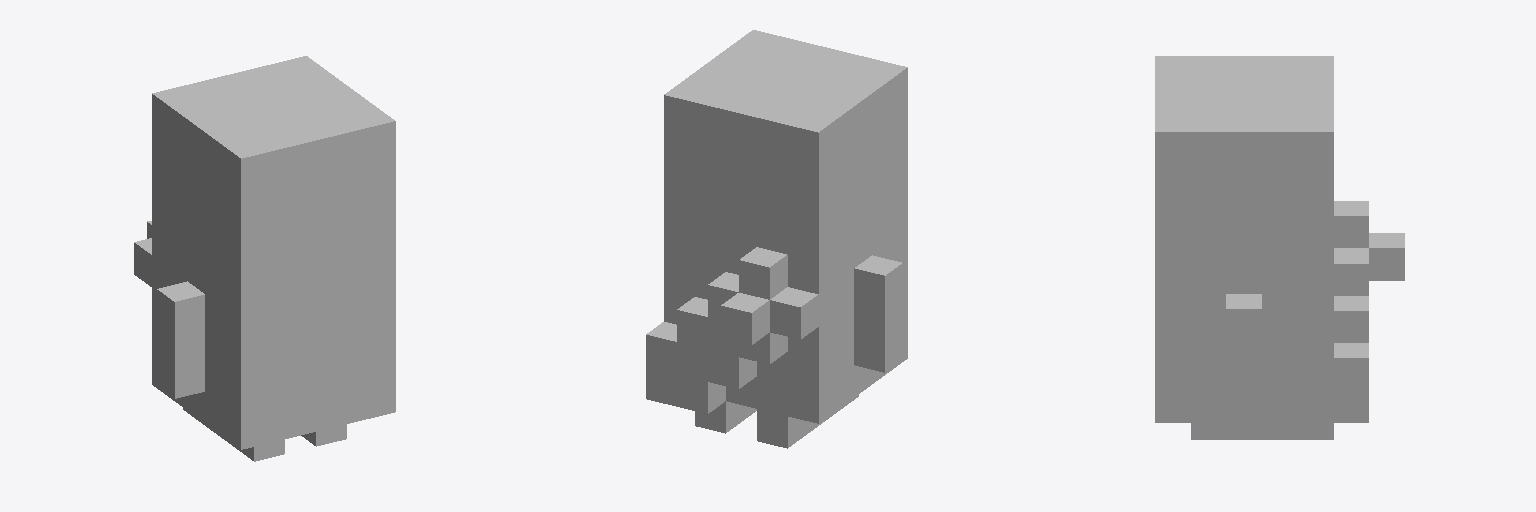
The model's file is player.obj.
The picture shows the model from 3 angles: view 1: azimuth 30°, elevation 25°; view 2: azimuth 150°, elevation 25°; view 3: azimuth 270°, elevation 25°; orthographic projection.
Parts seen in each view (by area): view 1: object 1; view 2: object 1; view 3: object 1.
Boxes of the visible parts, x1,y1,x2,y2 form: object 1: [134, 56, 395, 461]; object 1: [646, 30, 907, 448]; object 1: [1155, 56, 1404, 439].
Size of the model in its own units: 0.7 by 1 by 0.7.